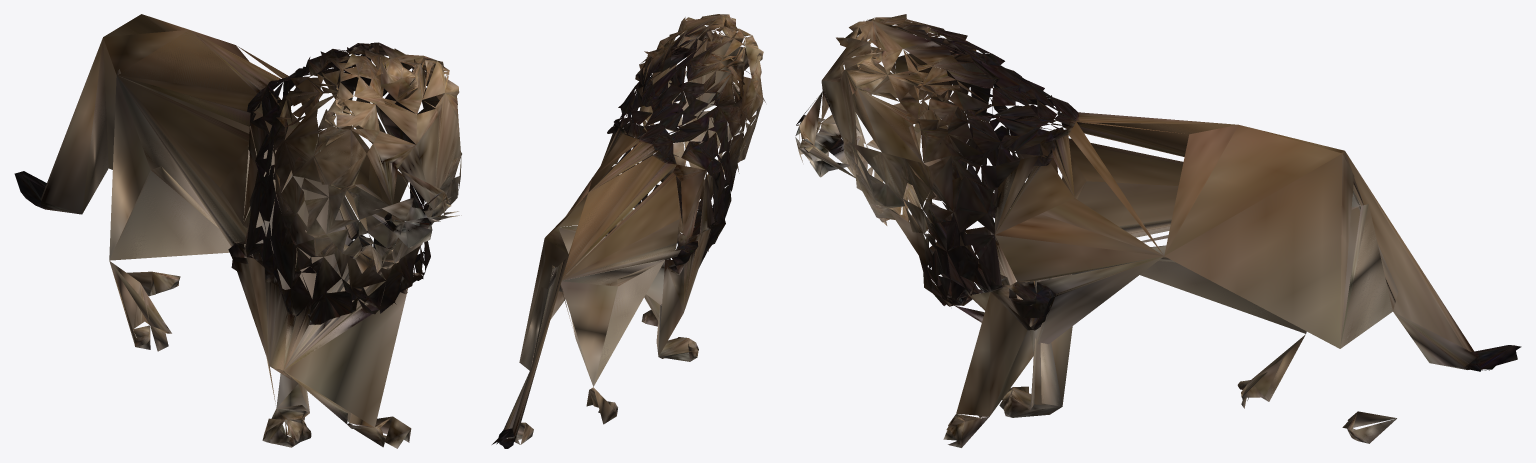
Rendered from loewe2.glb.
3 renders of one model, left to right at view 1: azimuth 30°, elevation 25°; view 2: azimuth 150°, elevation 25°; view 3: azimuth 270°, elevation 25°, orthographic. The views are drawn at different scales.
Size of the model in its own units: 0.4653 by 1.15 by 1.87.
Materials: 1 (1 with a texture image).
